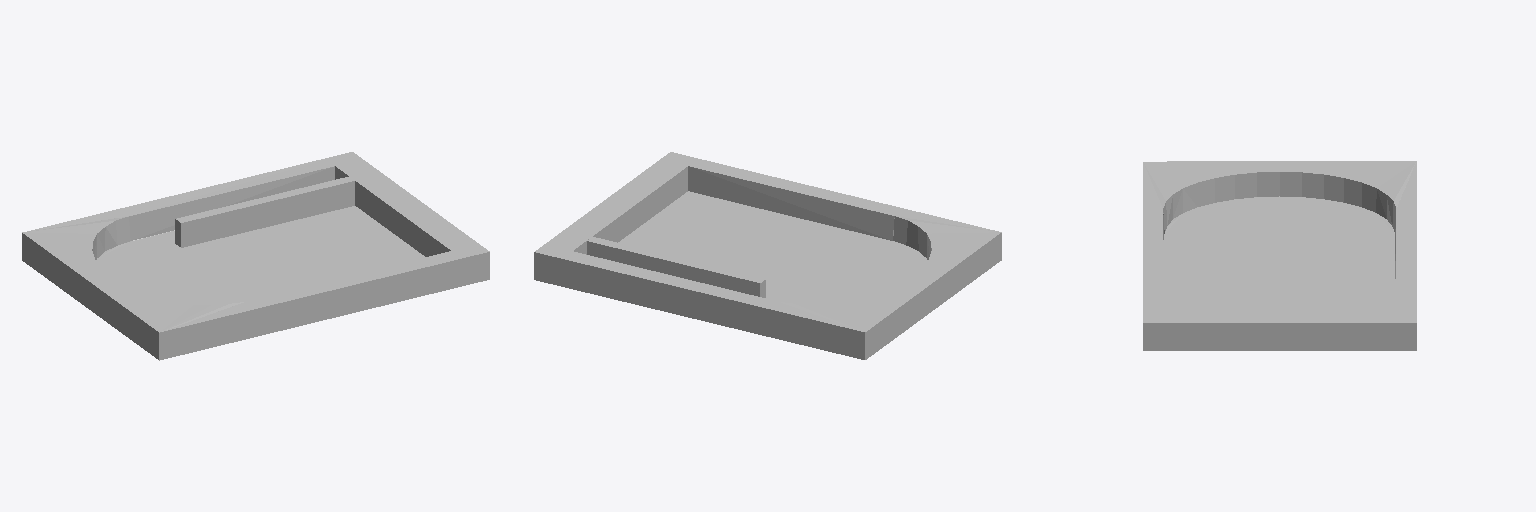
The model's file is board.obj.
3 renders of one model, left to right at view 1: azimuth 30°, elevation 25°; view 2: azimuth 150°, elevation 25°; view 3: azimuth 270°, elevation 25°, orthographic.
Parts seen in each view (by area): view 1: Cube, Cube.001_Cube.002; view 2: Cube, Cube.001_Cube.002; view 3: Cube.
Part boxes in pixels (left/top/right/bottom): Cube: left=22, top=152, right=489, bottom=360; Cube.001_Cube.002: left=175, top=179, right=354, bottom=247; Cube: left=534, top=152, right=1001, bottom=359; Cube.001_Cube.002: left=587, top=238, right=765, bottom=297; Cube: left=1143, top=161, right=1416, bottom=350.
Size of the model in its own units: 25.41 by 2.07 by 18.22.